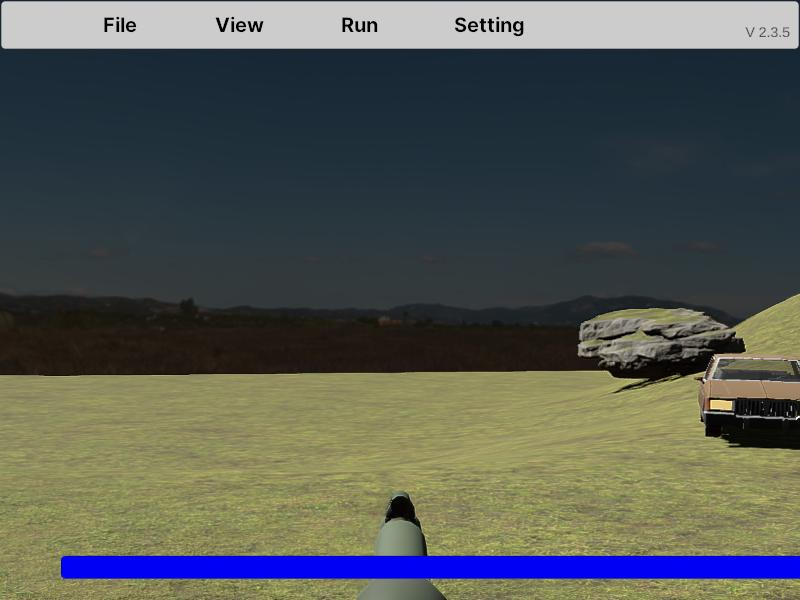car: (697, 353, 800, 441)
